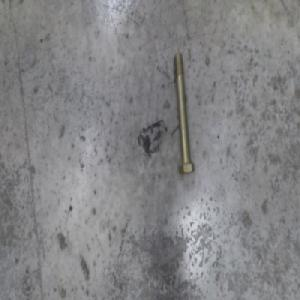Bolt: (171, 55, 194, 177)
